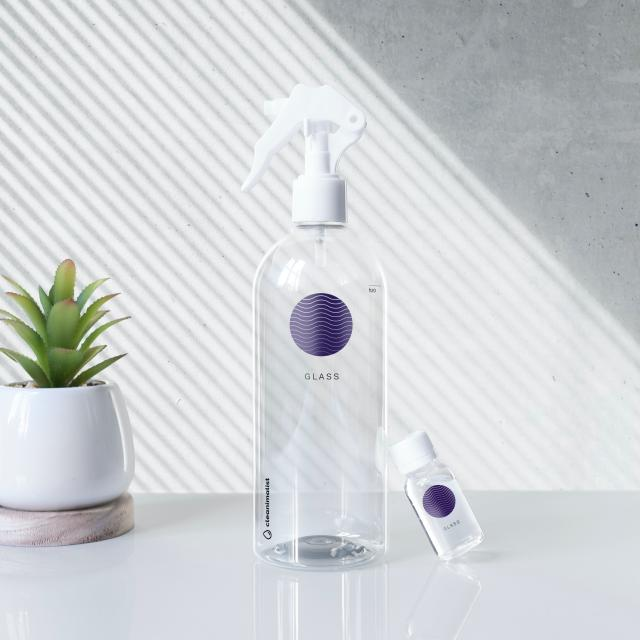Plastic: (251, 93, 390, 576), (391, 431, 486, 565)
